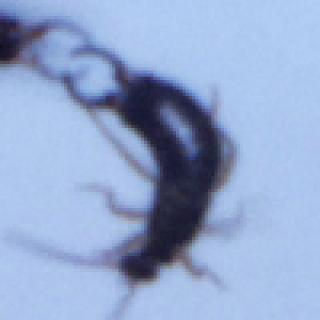earwig: (62, 40, 249, 316)
